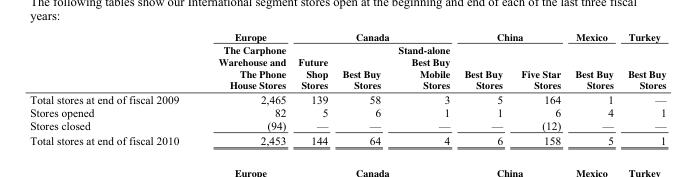table: (29, 29, 665, 146)
table column: (29, 29, 197, 146), (197, 29, 291, 146), (388, 29, 456, 146), (511, 29, 567, 146), (456, 29, 511, 146), (334, 29, 388, 146), (567, 29, 620, 146), (620, 29, 665, 146), (291, 29, 334, 146)
table column header: (29, 29, 665, 91)
table row: (29, 42, 665, 91), (29, 91, 665, 105), (29, 118, 665, 132), (29, 132, 665, 146), (29, 29, 665, 42), (29, 105, 665, 118)
table spanning cell: (197, 29, 291, 91), (567, 29, 620, 91), (620, 29, 665, 91), (291, 29, 456, 42), (456, 29, 567, 42)
